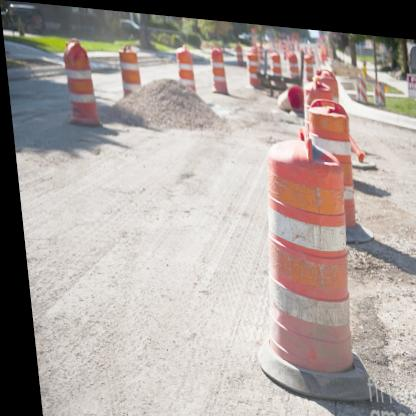obstacle: (244, 120, 365, 375), (59, 37, 100, 132), (206, 45, 231, 96), (116, 42, 141, 85), (173, 37, 194, 80)
